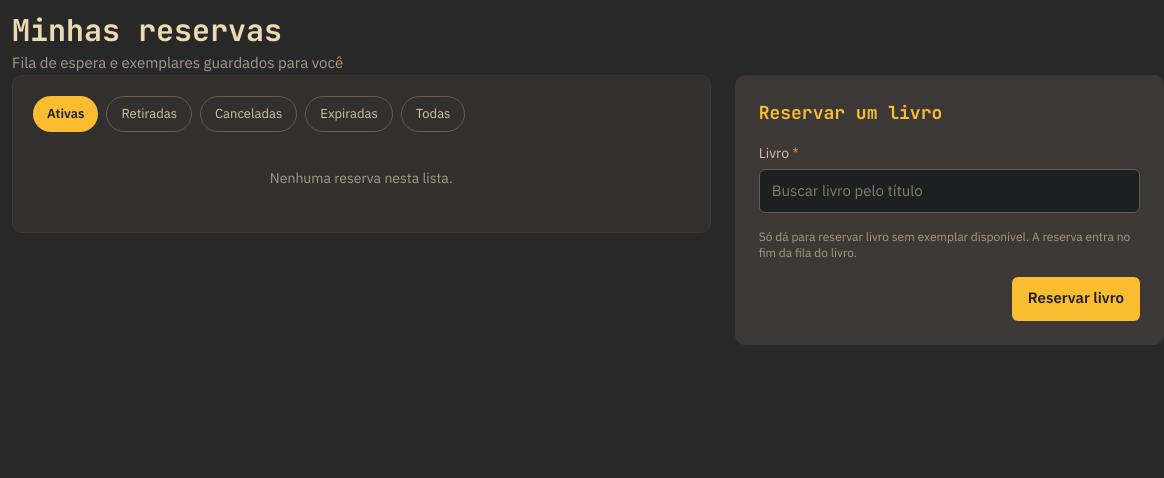
Test: minhas reservas › reserva livro sem exemplar disponível e mostra o lugar na fila
Step 1. Type "Dom" into the search field labelled "Buscar livro pelo título" → (949, 190), box 759,168 -> 1140,212
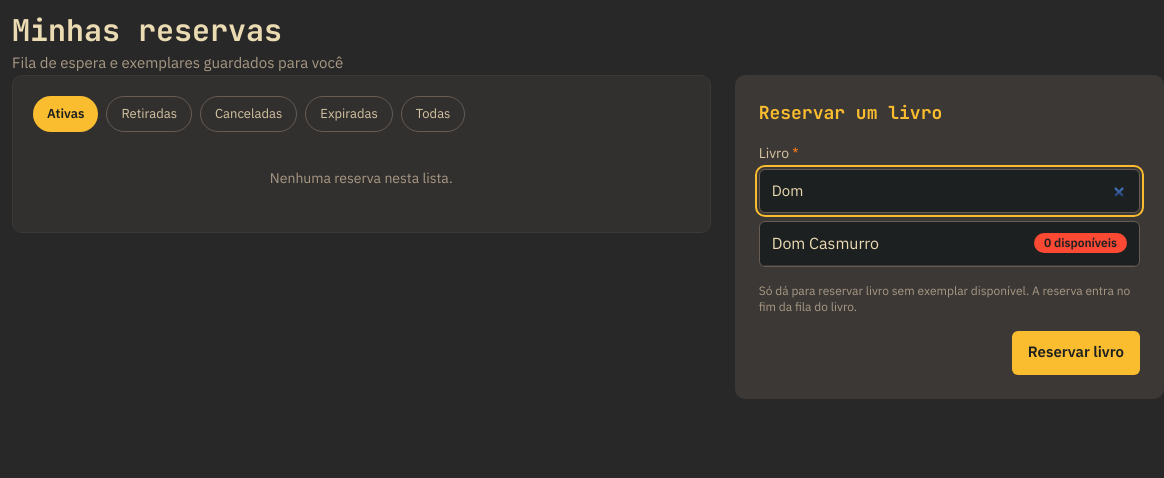
Step 2. Click the button "Dom Casmurro 0 disponíveis" → (825, 243), box 760,222 -> 1139,266
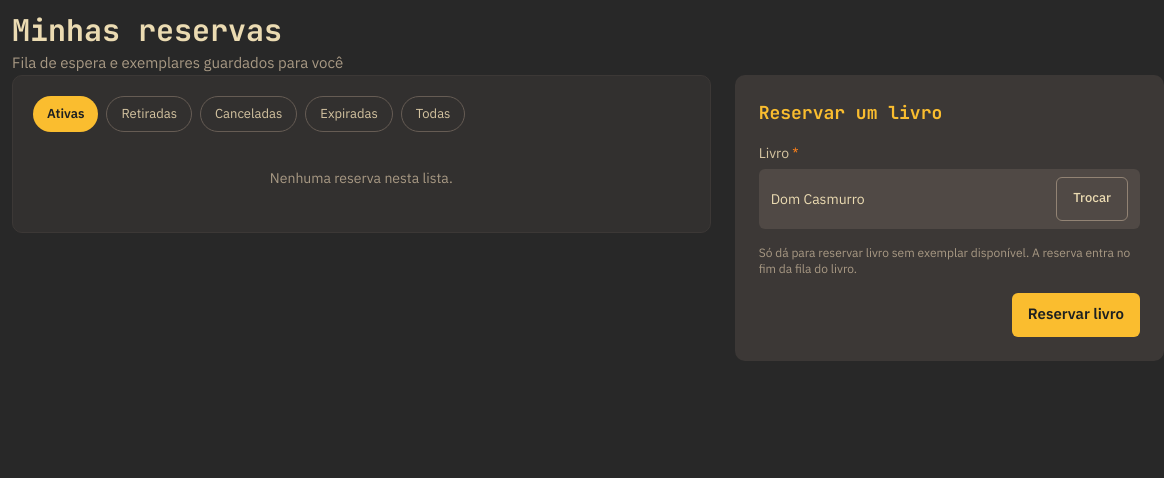
Step 3. Click the button "Reservar livro" → (1076, 314), box 1012,292 -> 1140,336
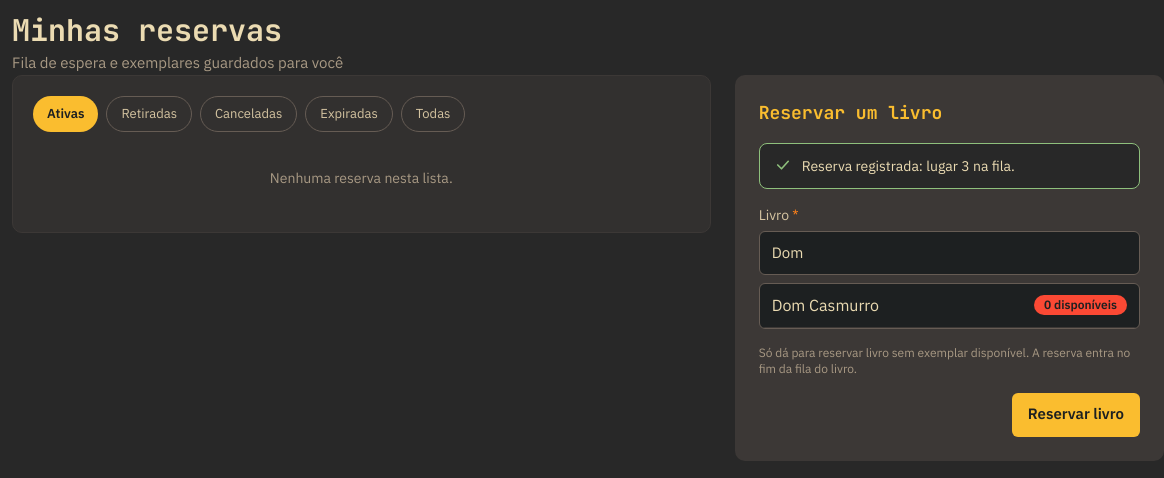
Expected: the text "Reserva registrada: lugar 3 na fila." is shown, 802,156 -> 1015,176
